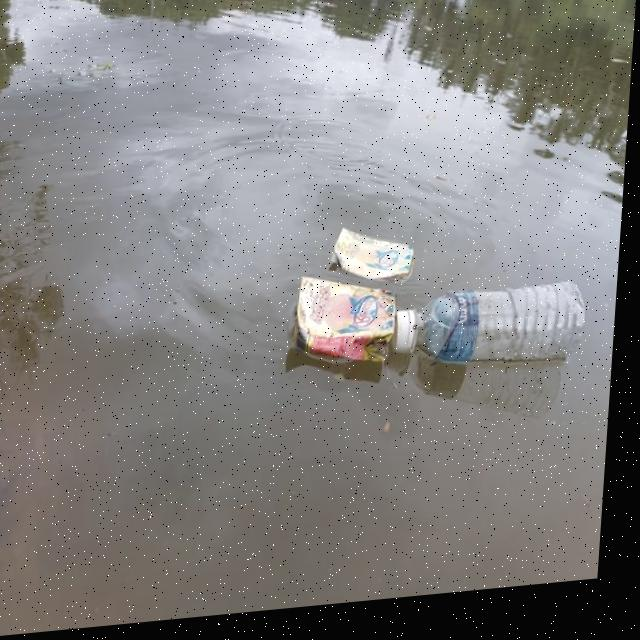paper: (263, 283, 395, 396), (293, 231, 428, 304)
waterbottle: (380, 276, 604, 404)
